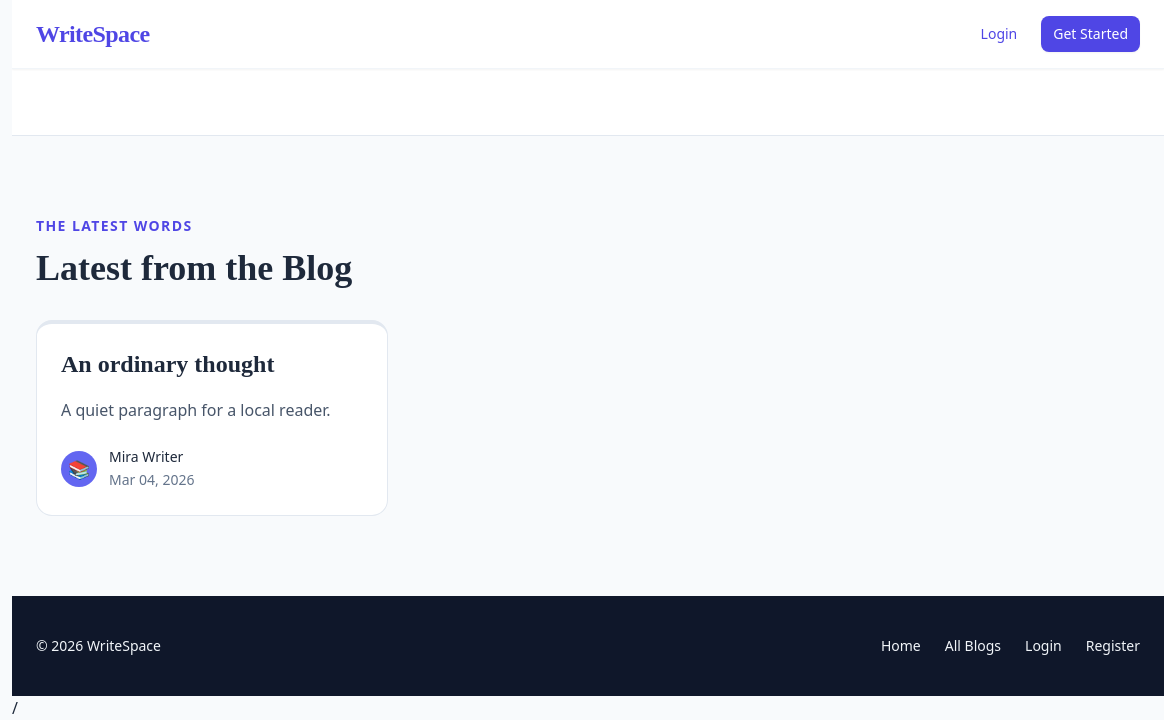
Scenario: public landing and App wiring › guest selecting a stored preview is redirected by the reader guard to login
This screenshot has width=1164, height=720.
(page scrolled)
Click the link "An ordinary thought".
click(168, 364)  # box [61,351,274,377]
(page scrolled)
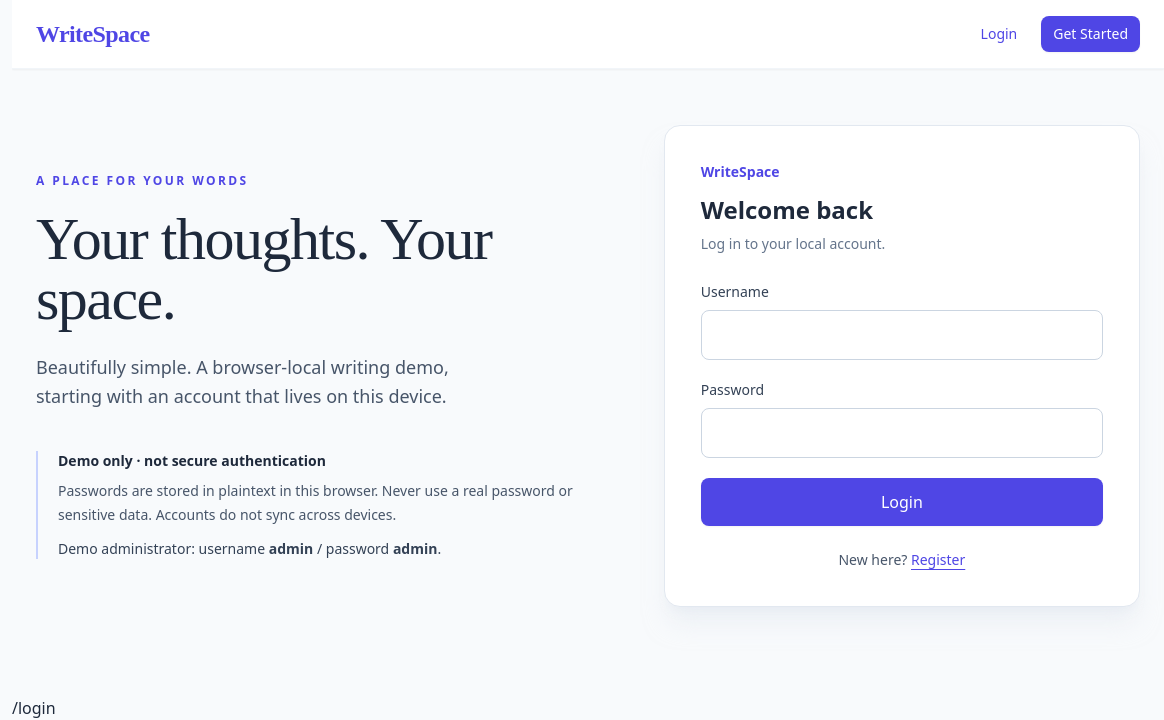
Check: the text named "Current route" reads "/login", box [12,697,56,719]
Check: the heading "Welcome back" is shown, box [701,193,873,226]
